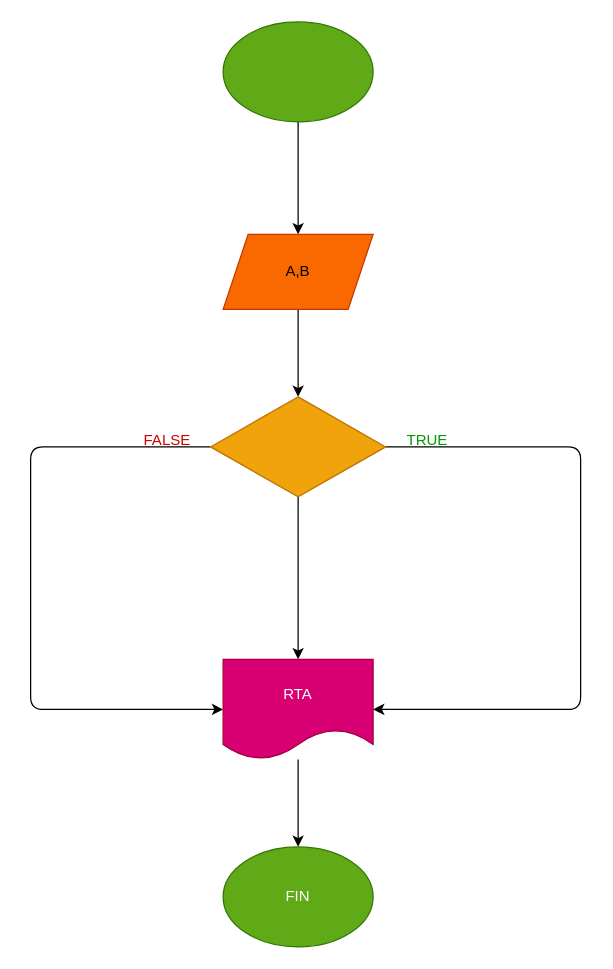
The diagram is 613 pixels wide and 969 high, and some of its shapes have lost their labels. Each missing label, with the centre of its shape:
"A%B==0 or B % A== 0" goes at point 297,446.
"INICIO" goes at point 297,71.
